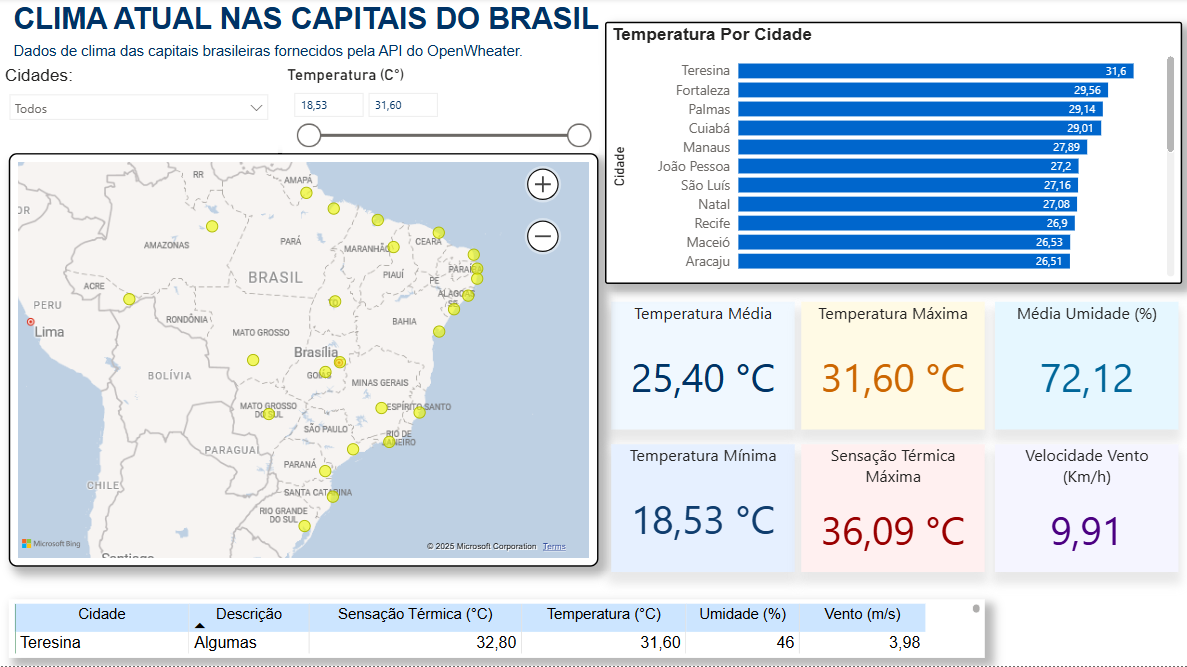

This screenshot's page, from the dashboard's own definition file:
{"tool":"powerbi","page":{"name":"Página 1","canvas":[1280,720],"ordinal":0},"visuals":[{"type":"textbox","box":[9.6,0,1270.7,85.1],"z":0},{"type":"textbox","box":[9.6,42.5,629.8,48],"z":1000},{"type":"card","title":"Temperatura Média","fields":{"Values":["Avg(clima_capitais_brasil.Temperatura (°C))"]},"box":[658.3,327.1,197.9,137.3],"z":2000},{"type":"map","fields":{"Category":["clima_capitais_brasil.Cidade"]},"box":[9.4,166.9,635.4,445.6],"z":3000},{"type":"clusteredBarChart","title":"Temperatura Por Cidade","fields":{"Category":["clima_capitais_brasil.Cidade"],"Y":["Sum(clima_capitais_brasil.Temperatura (°C))"]},"box":[651.6,25.6,622,282.7],"z":4000},{"type":"slicer","title":"Cidades:","fields":{"Values":["clima_capitais_brasil.Cidade"]},"box":[0,72.7,298.9,94.2],"z":5000},{"type":"slicer","title":"Temperatura (C°)","fields":{"Values":["clima_capitais_brasil.Temperatura (°C)"]},"box":[304.3,72.7,340.6,94.2],"z":6000},{"type":"tableEx","fields":{"Values":["clima_capitais_brasil.Cidade","clima_capitais_brasil.Descrição","Sum(clima_capitais_brasil.Sensação Térmica (°C))","Sum(clima_capitais_brasil.Temperatura (°C))","Sum(clima_capitais_brasil.Umidade (%))","Sum(clima_capitais_brasil.Vento (m/s))"]},"box":[9.4,647.5,1051.4,63.3],"z":7000},{"type":"card","title":"Temperatura Máxima","fields":{"Values":["Max(clima_capitais_brasil.Temperatura (°C))"]},"box":[862.9,327.1,197.9,137.3],"z":8000},{"type":"card","title":"Média Umidade (%)","fields":{"Values":["Avg(clima_capitais_brasil.Umidade (%))"]},"box":[1071.6,327.1,197.9,137.3],"z":9000},{"type":"card","title":"Temperatura Mínima","fields":{"Values":["Min(clima_capitais_brasil.Temperatura (°C))"]},"box":[658.3,480.6,197.9,137.3],"z":10000},{"type":"card","title":"Sensação Térmica Máxima","fields":{"Values":["Max(clima_capitais_brasil.Sensação Térmica (°C))"]},"box":[862.9,480.6,197.9,137.3],"z":11000},{"type":"card","title":"Velocidade Vento (Km/h)","fields":{"Values":["Avg(clima_capitais_brasil.VelocidadeVento(Km/H))"]},"box":[1071.6,480.6,197.9,137.3],"z":12000}]}

Visuals, with their boxes in screenshot pixels (x1, y1, x2, y2), scaled from the page's 1280x720 canvas onto the 1187x667 screenshot:
textbox: (left=9, top=0, right=1186, bottom=79)
textbox: (left=9, top=39, right=593, bottom=84)
"Temperatura Média" card: (left=610, top=303, right=794, bottom=430)
map - clima_capitais_brasil.Cidade: (left=9, top=155, right=598, bottom=567)
"Temperatura Por Cidade" clusteredBarChart: (left=604, top=24, right=1181, bottom=286)
"Cidades:" slicer: (left=0, top=67, right=277, bottom=155)
"Temperatura (C°)" slicer: (left=282, top=67, right=598, bottom=155)
tableEx - clima_capitais_brasil.Cidade x clima_capitais_brasil.Descrição: (left=9, top=600, right=984, bottom=658)
"Temperatura Máxima" card: (left=800, top=303, right=984, bottom=430)
"Média Umidade (%)" card: (left=994, top=303, right=1177, bottom=430)
"Temperatura Mínima" card: (left=610, top=445, right=794, bottom=572)
"Sensação Térmica Máxima" card: (left=800, top=445, right=984, bottom=572)
"Velocidade Vento (Km/h)" card: (left=994, top=445, right=1177, bottom=572)
